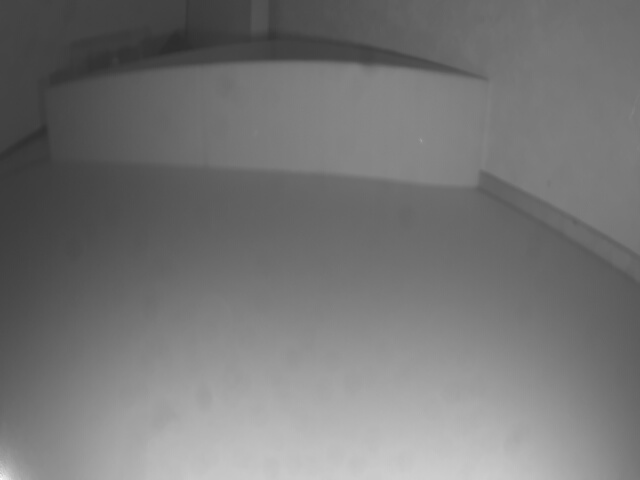Point: (44, 66, 491, 189)
